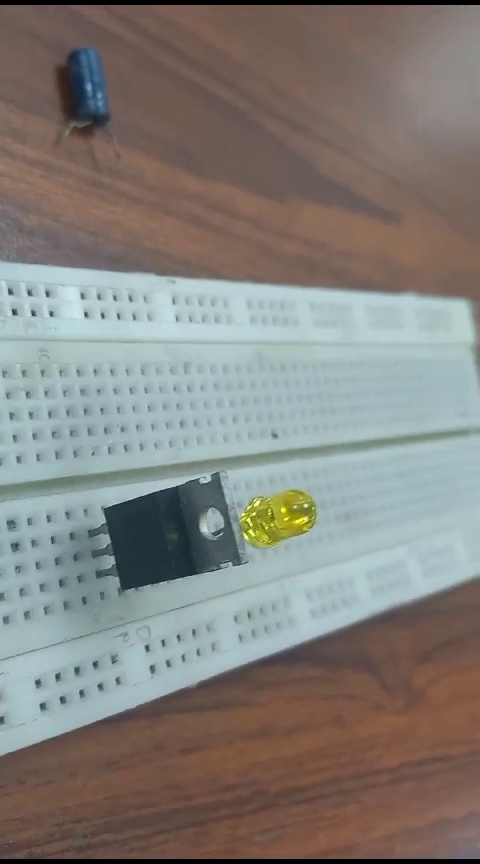LED: (247, 491, 311, 552)
voltage regulator: (84, 476, 243, 593)
